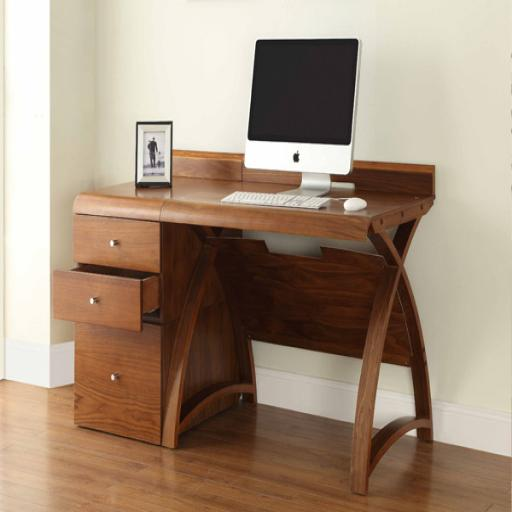desk: (53, 149, 435, 496)
wall: (95, 0, 512, 456)
